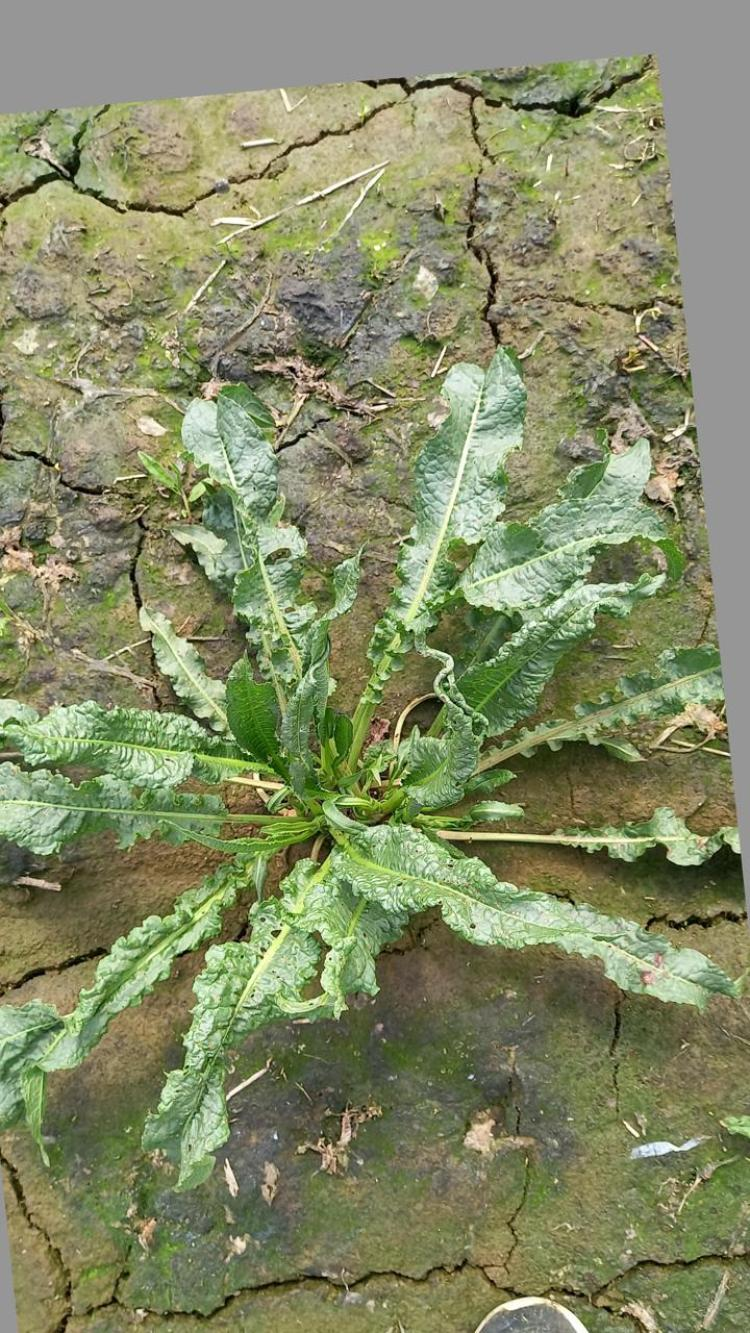zhavel: (2, 344, 746, 1189)
